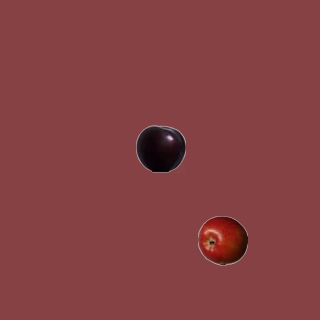Apple Braeburn: (197, 215, 247, 265)
Cherry Wax Black: (135, 123, 185, 173)
